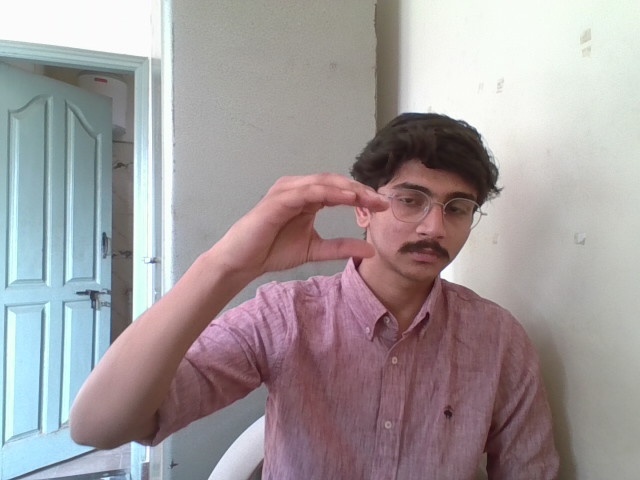no: (199, 161, 393, 267)
